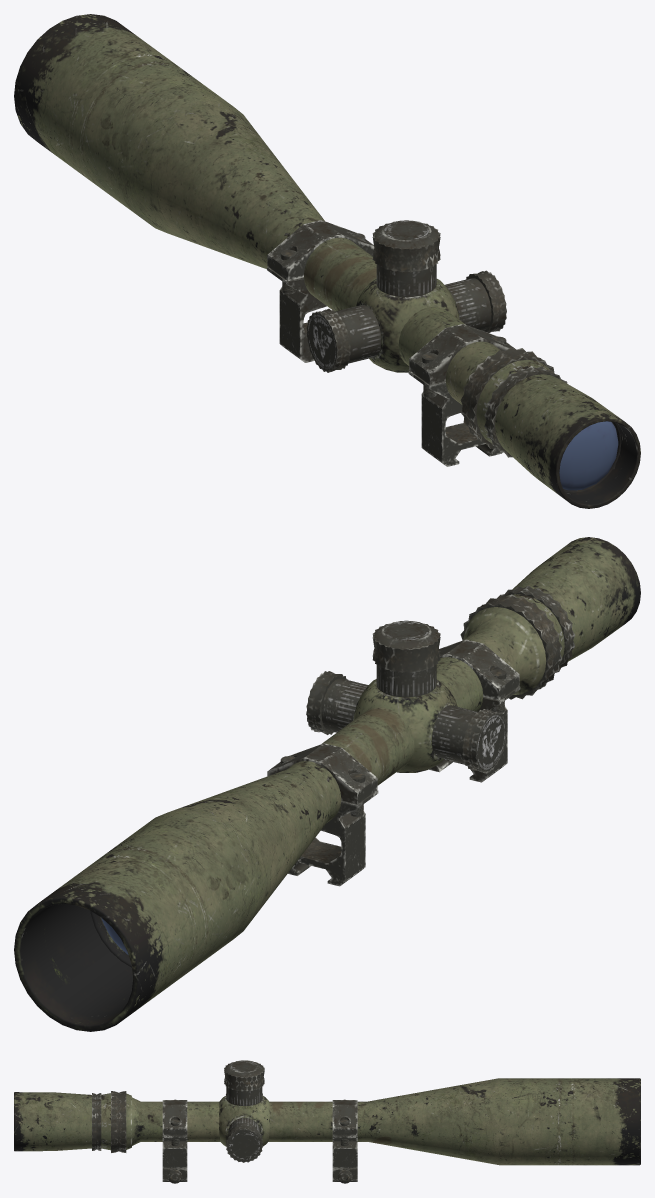
File: scope.glb
The picture shows the model from 3 angles, top to bottom: view 1: azimuth 30°, elevation 25°; view 2: azimuth 150°, elevation 25°; view 3: azimuth 270°, elevation 25°; orthographic projection. The views are drawn at different scales.
Visible parts, largest first — view 1: Object_2; view 2: Object_2; view 3: Object_2.
Boxes of the visible parts, <box> form: Object_2: <box>14,14,640,508</box>; Object_2: <box>14,537,640,1031</box>; Object_2: <box>14,1060,640,1183</box>.
Size of the model in its own units: 7.49 by 7.6 by 40.05.
1 material, 1 textured.
